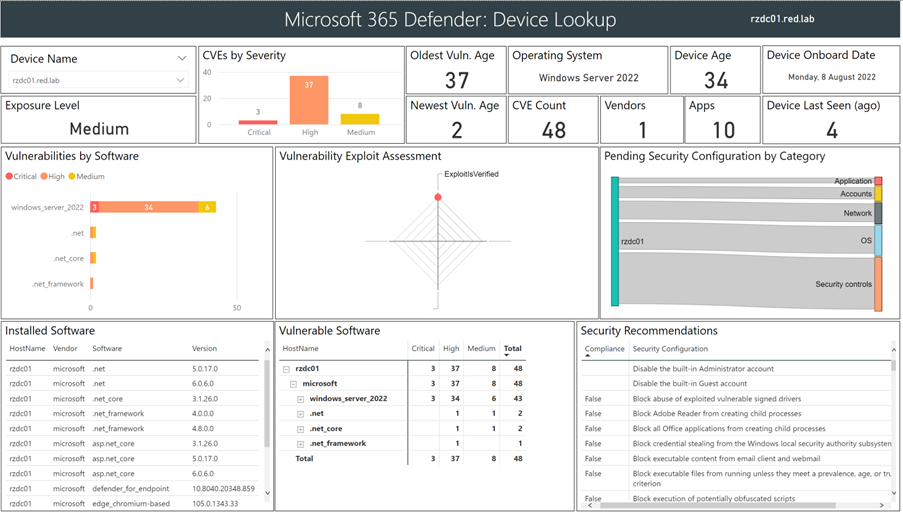

What the dashboard file says about the page in this screenshot:
{"tool":"powerbi","page":{"name":"Device Lookup","canvas":[1280,720],"ordinal":2},"visuals":[{"type":"textbox","box":[11.9,0,1258.6,51],"z":1000},{"type":"columnChart","title":"CVEs by Severity","fields":{"Category":["DeviceVulnerabilities.Vulnerabilityseveritylevel"],"Y":["CountNonNull(DeviceVulnerabilities.Cveid)"]},"box":[288.6,62.8,288.6,136.8],"z":2000},{"type":"card","title":"Newest Vuln. Age","fields":{"Values":["Min(CveData.DaysCveActive)"]},"box":[579.1,132.8,140.7,66.7],"z":3000},{"type":"barChart","title":"Vulnerabilities by Software","fields":{"Series":["DeviceVulnerabilities.Vulnerabilityseveritylevel"],"Category":["DeviceVulnerabilities.Softwarename"],"Y":["CountNonNull(DeviceVulnerabilities.Cveid)"]},"box":[12.4,204.2,380.9,241.5],"z":4000},{"type":"slicer","fields":{"Values":["Devices.DeviceName"]},"box":[11.8,62.8,274.2,66.7],"z":6000},{"type":"card","title":"Exposure Level","fields":{"Values":["Min(Devices.exposureLevel)"]},"box":[12.4,132.8,273.5,66.7],"z":7000},{"type":"card","title":"Oldest Vuln. Age","fields":{"Values":["Max(CveData.DaysCveActive)"]},"box":[579.1,62.8,140.7,67.4],"z":8000},{"type":"card","title":"Operating System","fields":{"Values":["Min(OSVersions.OsName)"]},"box":[721.8,63.1,224.1,67.1],"z":9000},{"type":"RadarChart1446119667547","title":"Vulnerability Exploit Assessment","fields":{"Category":["DeviceVulnerabilities.Exploitabilitylevel"],"Y":["Count(DeviceVulnerabilities.Cveid)"]},"box":[395.9,204.2,452.8,241.5],"z":10000},{"type":"pivotTable","title":"Vulnerable Software","fields":{"Rows":["Devices.HostName","DeviceVulnerabilities.Softwarevendor","DeviceVulnerabilities.Softwarename","DeviceVulnerabilities.Softwareversion"],"Values":["CountNonNull(DeviceVulnerabilities.Cveid)"],"Columns":["DeviceVulnerabilities.Vulnerabilityseveritylevel"]},"box":[395.8,448.1,419.3,266.3],"z":11000},{"type":"card","title":"Device Onboard Date","fields":{"Values":["Min(Devices.FirstSeenDate)"]},"box":[1077.8,62.2,192.4,67.4],"z":12000},{"type":"card","title":"Device Last Seen (ago)","fields":{"Values":["Sum(Devices.DaysInactive)"]},"box":[1077.8,132.8,192.4,67.4],"z":13000},{"type":"card","title":"Device Age","fields":{"Values":["Sum(Devices.DaysActive)"]},"box":[948.6,63.1,126.8,67.1],"z":14000},{"type":"card","title":"CVE Count","fields":{"Values":["CountNonNull(DeviceVulnerabilities.Cveid)"]},"box":[721.8,132.8,127,66.7],"z":15000},{"type":"card","title":"Apps","fields":{"Values":["Count(DeviceSoftware.Softwarename)"]},"box":[969.2,132.8,106,66.7],"z":16000},{"type":"card","title":"Vendors","fields":{"Values":["Count(DeviceSoftware.Softwarevendor)"]},"box":[850.7,132.8,116.5,66.7],"z":17000},{"type":"tableEx","title":"Installed Software","fields":{"Values":["Devices.HostName","DeviceSoftware.Softwarevendor","DeviceSoftware.Softwarename","DeviceSoftware.Softwareversion"]},"box":[12.1,448.1,381.7,266.3],"z":18000},{"type":"tableEx","title":"Security Recommendations","fields":{"Values":["DeviceSecurityConfig.Iscompliant","DeviceSecurityConfig.Configurationname"]},"box":[817.8,448.1,452.8,266.3],"z":19000},{"type":"sankey02300D1BE6F5427989F3DE31CCA9E0F32020","title":"Pending Security Configuration by Category","fields":{"Source":["Devices.HostName"],"Destination":["DeviceSecurityConfig.Configurationcategory"],"Weight":["Count(DeviceSecurityConfig.Configurationid)"]},"box":[850.6,203.9,420,241.5],"z":20000},{"type":"card","fields":{"Values":["aaMeasures.DeviceError"]},"box":[288.6,62.2,986.8,138.1],"z":20500}]}

Visuals, with their boxes in screenshot pixels (x1, y1, x2, y2), scaled from the page's 1280x720 canvas onto the 903x513 screenshot:
textbox: box(8, 0, 896, 36)
"CVEs by Severity" columnChart: box(204, 45, 407, 142)
"Newest Vuln. Age" card: box(409, 95, 508, 142)
"Vulnerabilities by Software" barChart: box(9, 145, 277, 318)
slicer - Devices.DeviceName: box(8, 45, 202, 92)
"Exposure Level" card: box(9, 95, 202, 142)
"Oldest Vuln. Age" card: box(409, 45, 508, 93)
"Operating System" card: box(509, 45, 667, 93)
"Vulnerability Exploit Assessment" RadarChart1446119667547: box(279, 145, 599, 318)
"Vulnerable Software" pivotTable: box(279, 319, 575, 509)
"Device Onboard Date" card: box(760, 44, 896, 92)
"Device Last Seen (ago)" card: box(760, 95, 896, 143)
"Device Age" card: box(669, 45, 759, 93)
"CVE Count" card: box(509, 95, 599, 142)
"Apps" card: box(684, 95, 759, 142)
"Vendors" card: box(600, 95, 682, 142)
"Installed Software" tableEx: box(9, 319, 278, 509)
"Security Recommendations" tableEx: box(577, 319, 896, 509)
"Pending Security Configuration by Category" sankey02300D1BE6F5427989F3DE31CCA9E0F32020: box(600, 145, 896, 317)
card - aaMeasures.DeviceError: box(204, 44, 900, 143)
